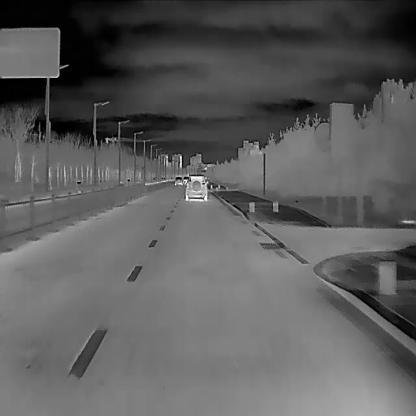car: (185, 174, 207, 201), (174, 177, 182, 186), (183, 176, 189, 184)
